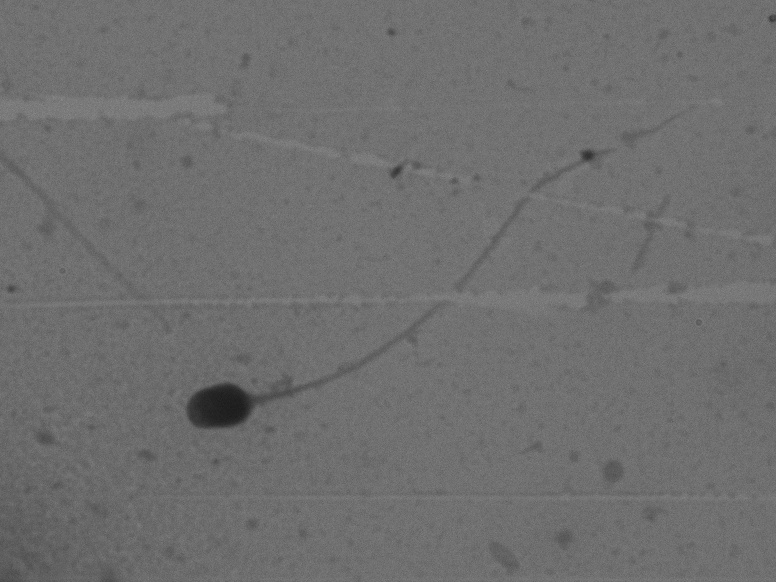Normal: (135, 54, 713, 467)
